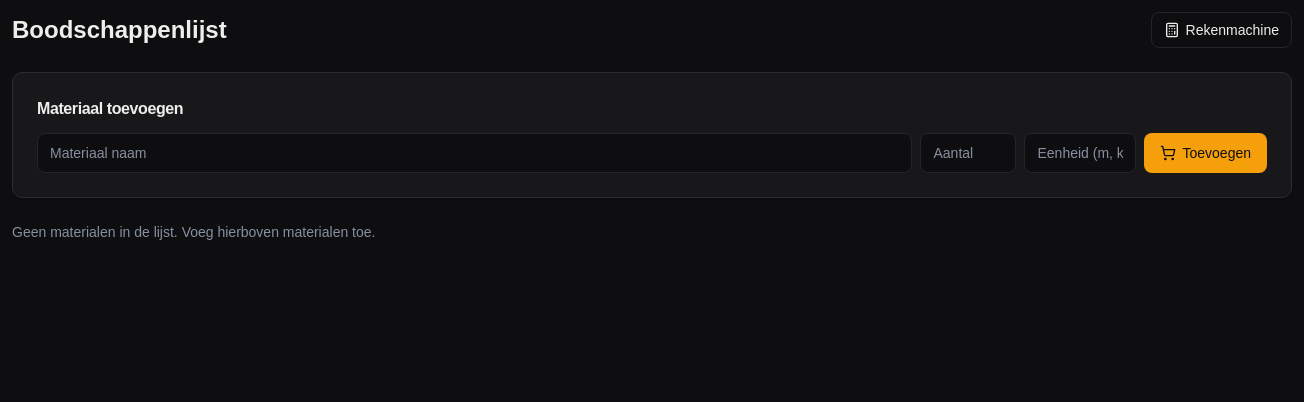
Test: ShoppingListPage › removes an item when the delete button is clicked
Type "Staal" into the field with placeholder "Materiaal naam" at (475, 153), box 37,133 -> 912,173
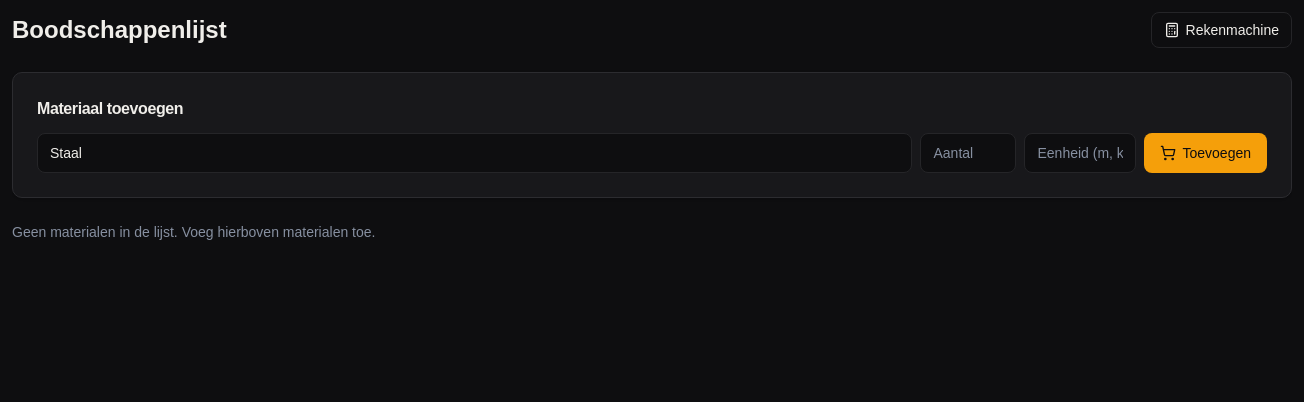
Type "2" into the field with placeholder "Aantal" at (968, 153), box 920,133 -> 1016,173
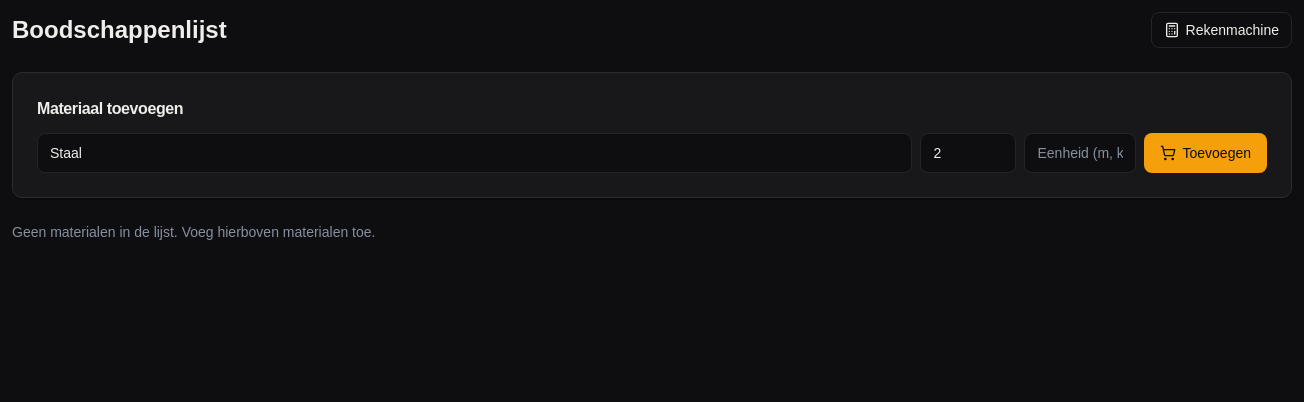
Type "m" into the field with placeholder "Eenheid (m, kg…)" at (1080, 153), box 1024,133 -> 1136,173
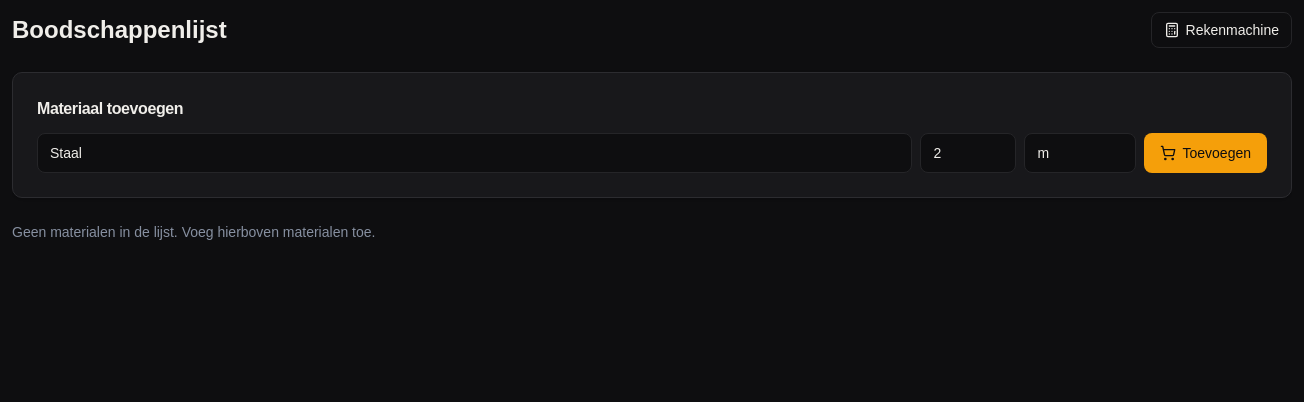
Click the button "Toevoegen" at (1206, 153), box 1144,133 -> 1267,173
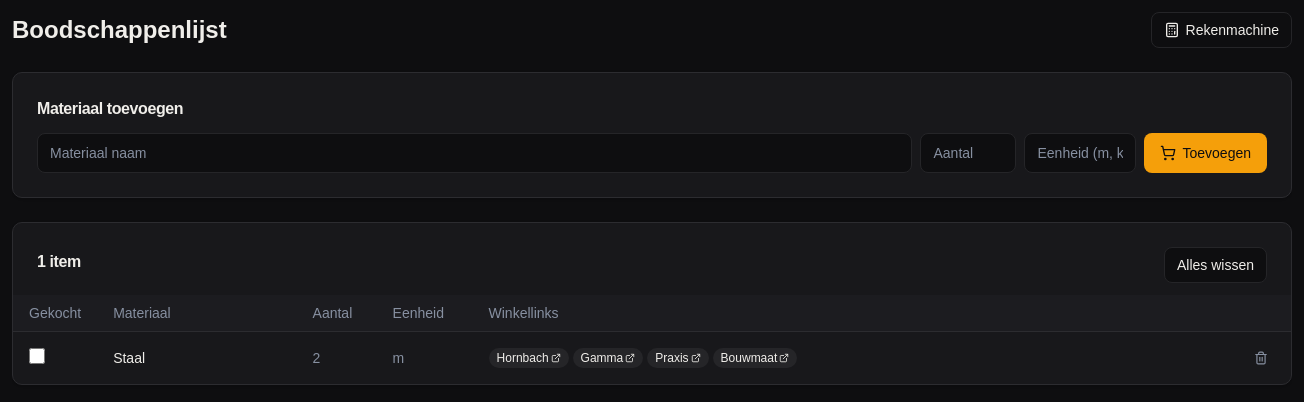
expect the text "Staal" is shown: met, box 113,350 -> 145,366
Click the button named "verwijder" at (1261, 358), box 1247,344 -> 1275,372
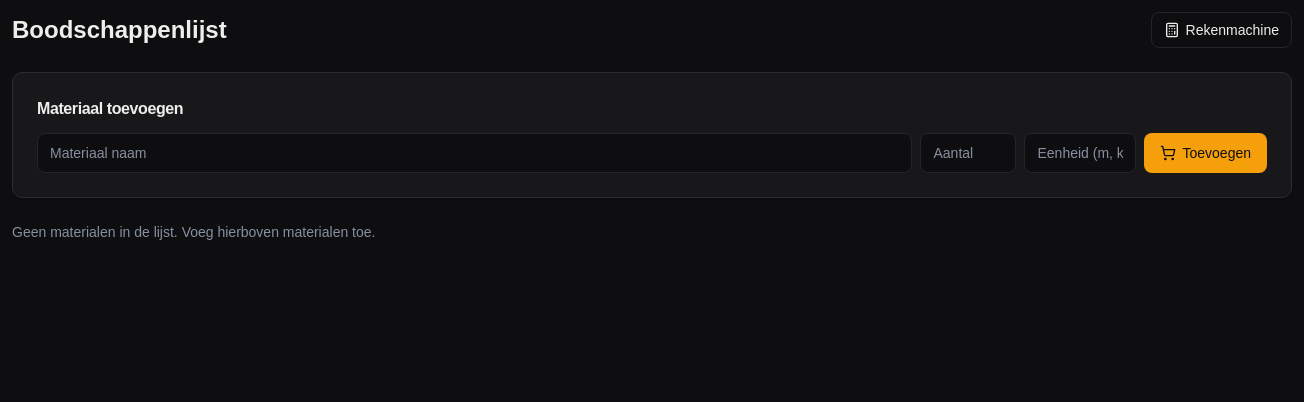
expect the text "Staal" is gone: met
